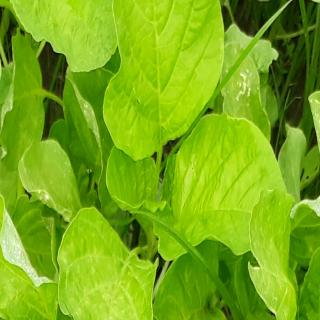karat_putih: (1, 56, 66, 290), (287, 86, 320, 220), (220, 48, 270, 132)
